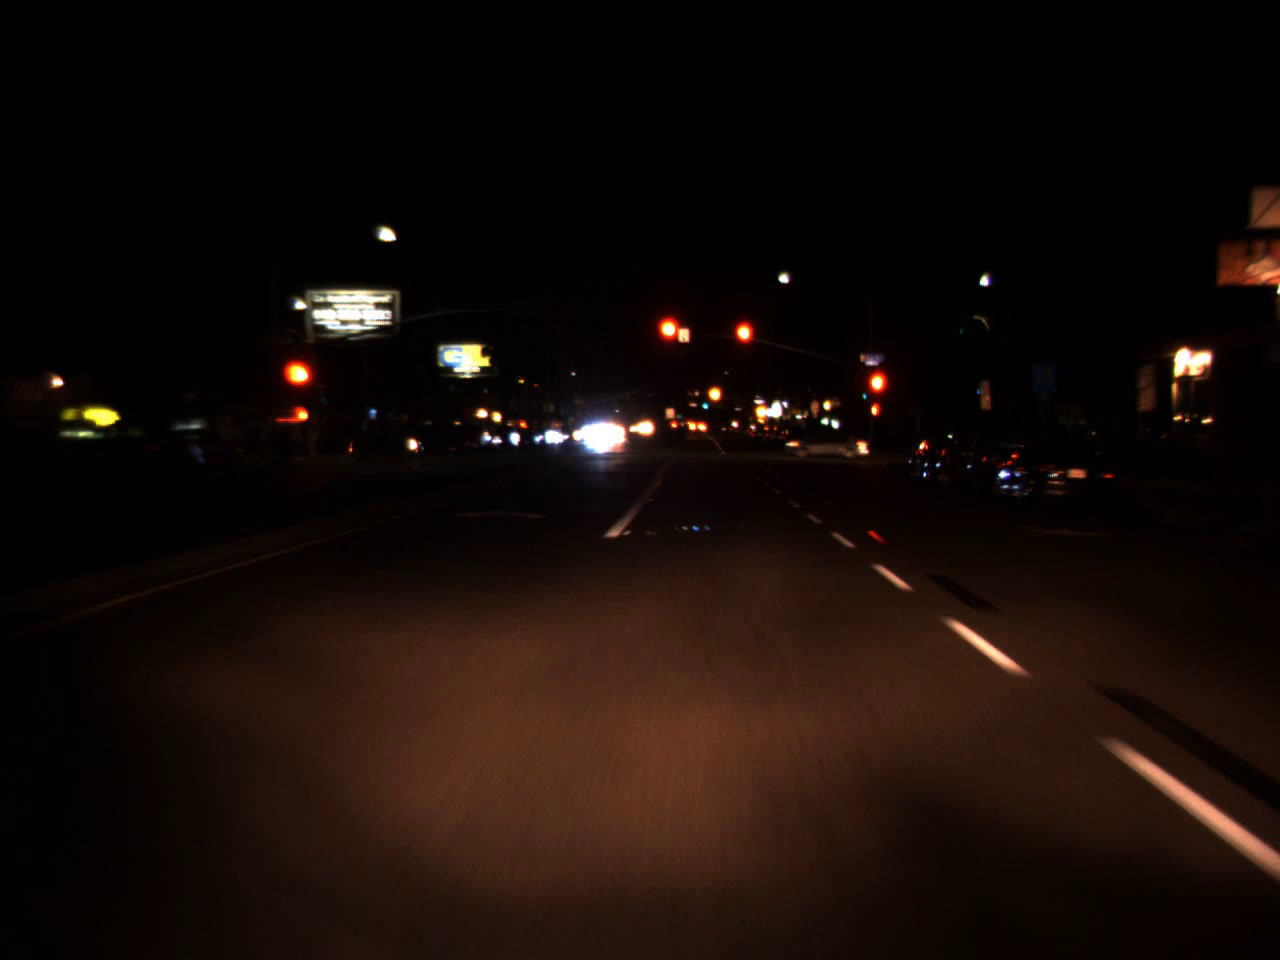go: (698, 395, 710, 410)
stop: (278, 356, 315, 418), (655, 312, 685, 371), (732, 317, 756, 371), (866, 368, 890, 419)
warning: (706, 377, 724, 409), (753, 398, 768, 425)
